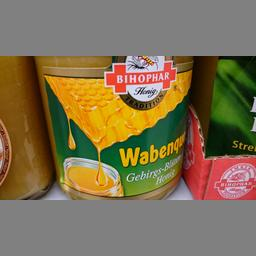honey: (33, 54, 193, 199)
